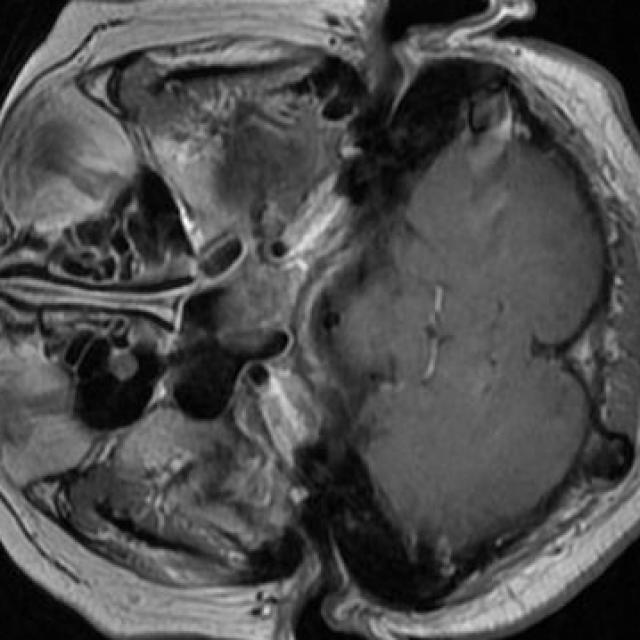pituitary: (221, 267, 291, 346)
